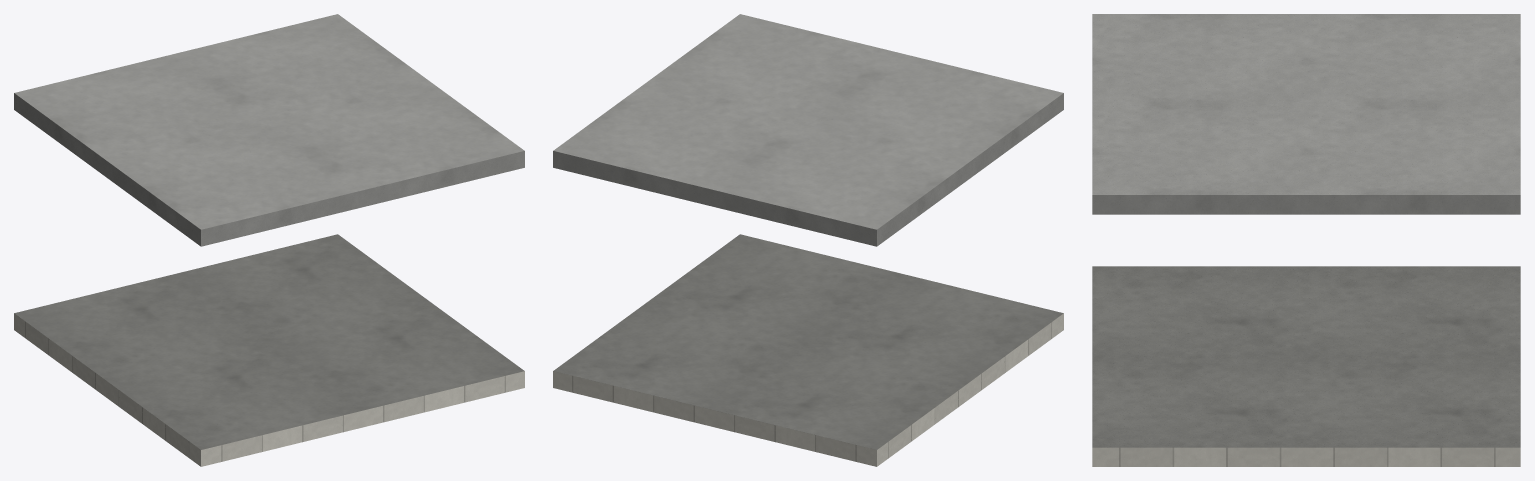
The model's file is Room_Basement_Floor.glb.
3 views of the same model, side by side, from view 1: azimuth 30°, elevation 25°; view 2: azimuth 150°, elevation 25°; view 3: azimuth 270°, elevation 25° (orthographic). The views are drawn at different scales.
Parts seen in each view (by area): view 1: Room_Basement_Floor, Room_Basement_Floor_Ceiling; view 2: Room_Basement_Floor, Room_Basement_Floor_Ceiling; view 3: Room_Basement_Floor, Room_Basement_Floor_Ceiling.
Boxes of the visible parts, x1,y1,x2,y2 form: Room_Basement_Floor: (14, 234, 524, 466); Room_Basement_Floor_Ceiling: (14, 14, 524, 246); Room_Basement_Floor: (553, 234, 1063, 466); Room_Basement_Floor_Ceiling: (553, 14, 1063, 246); Room_Basement_Floor: (1092, 266, 1520, 466); Room_Basement_Floor_Ceiling: (1092, 14, 1520, 214).
Bounding box in the file's own units: 4 × 2.8 × 4.
Materials: 5 (3 with a texture image).
